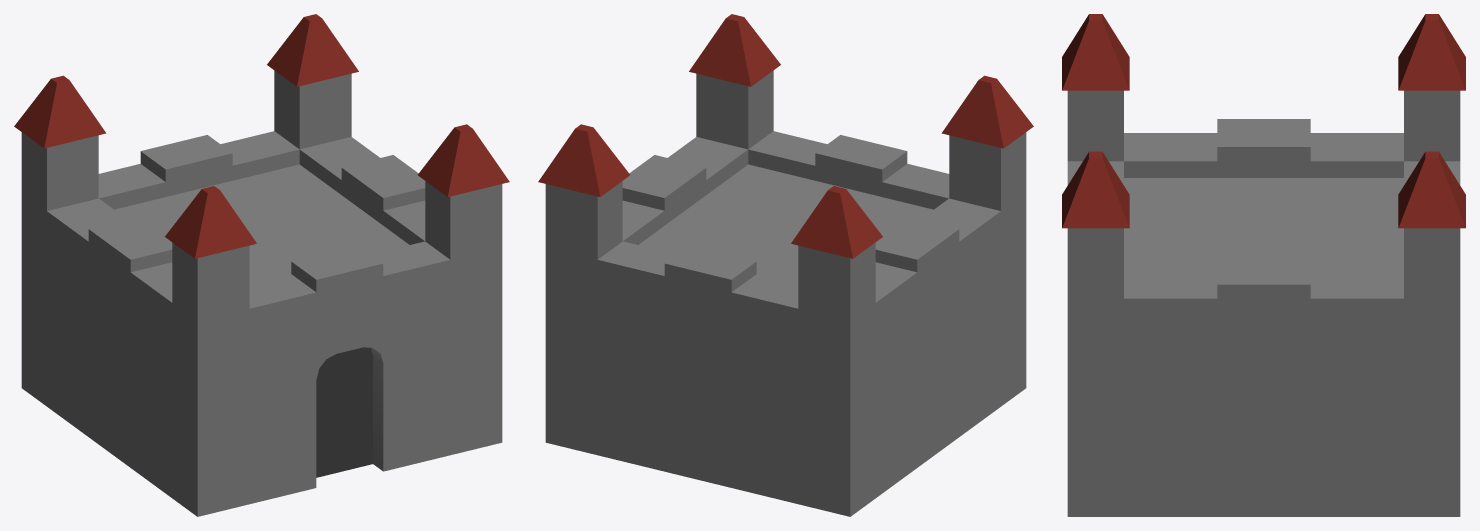
File: castle.fbx
The picture shows the model from 3 angles, left to right: view 1: azimuth 30°, elevation 25°; view 2: azimuth 150°, elevation 25°; view 3: azimuth 270°, elevation 25°; orthographic projection. The views are drawn at different scales.
Visible parts, largest first — view 1: Cube; view 2: Cube; view 3: Cube.
Boxes of the visible parts, left/top/right/bottom form: Cube: left=14, top=14, right=509, bottom=516; Cube: left=538, top=14, right=1033, bottom=516; Cube: left=1062, top=14, right=1465, bottom=516.
Bounding box in the file's own units: 249 × 248 × 235.
